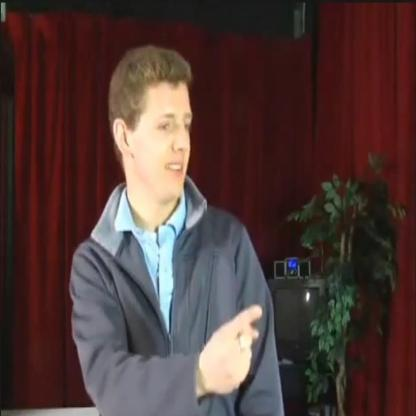NiceToMeetYou: (197, 283, 278, 399)
